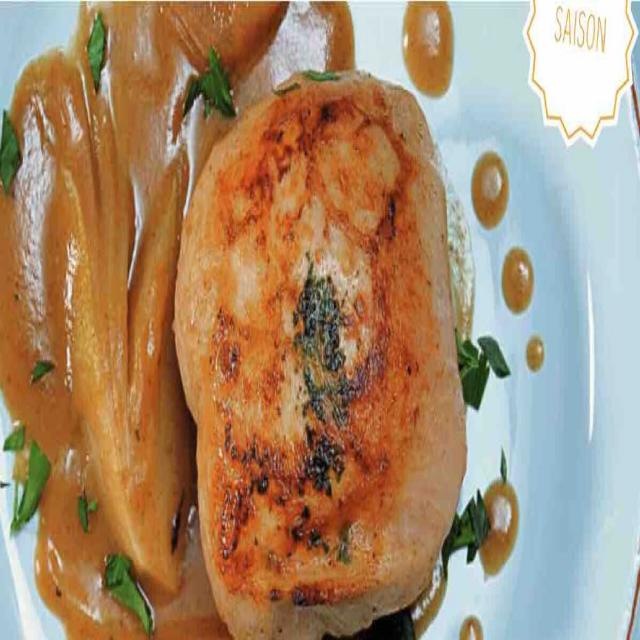sauce-cream: (7, 0, 361, 633)
